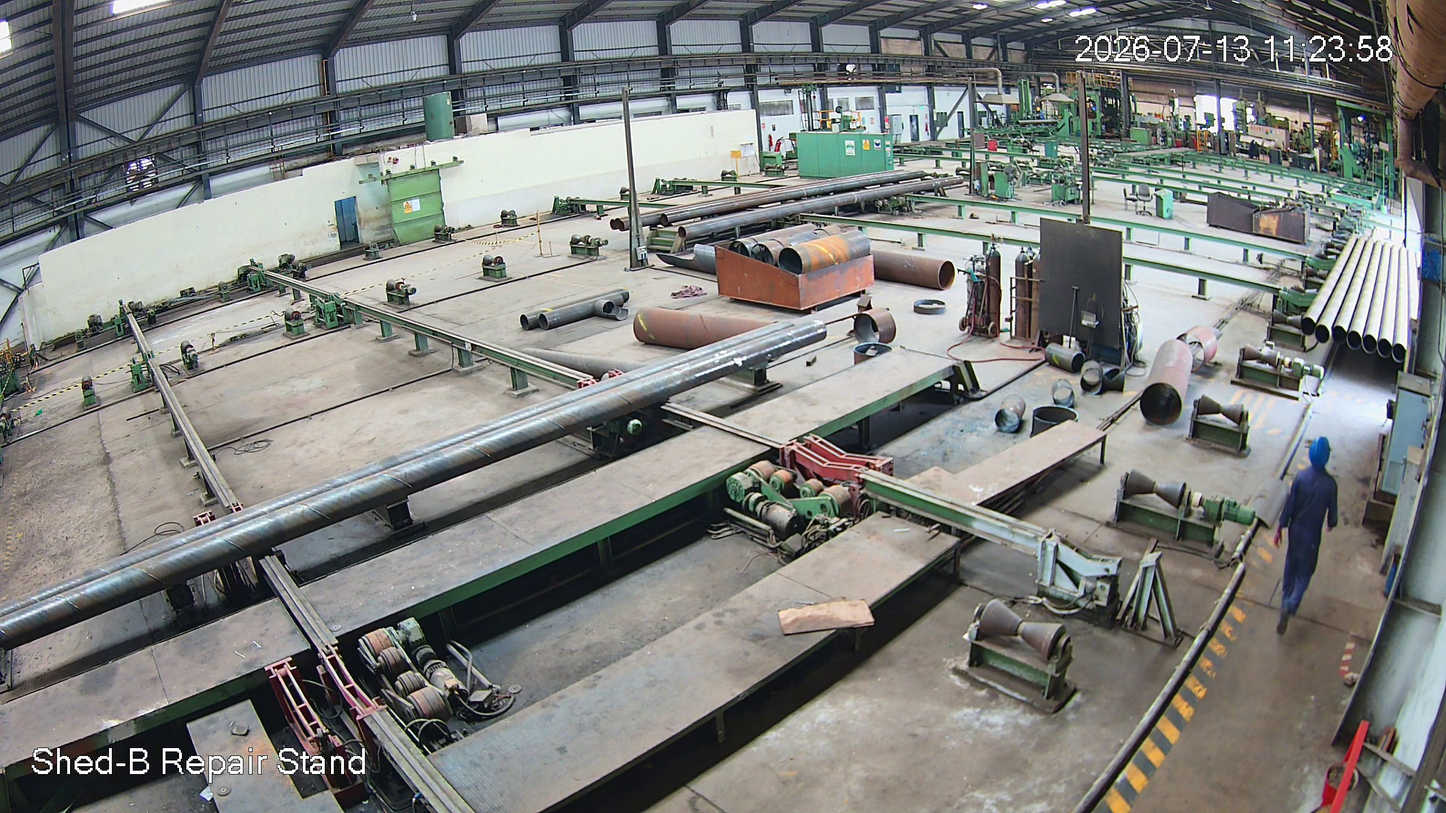Helmet: (1305, 432, 1340, 471)
Person: (1268, 437, 1345, 635)
